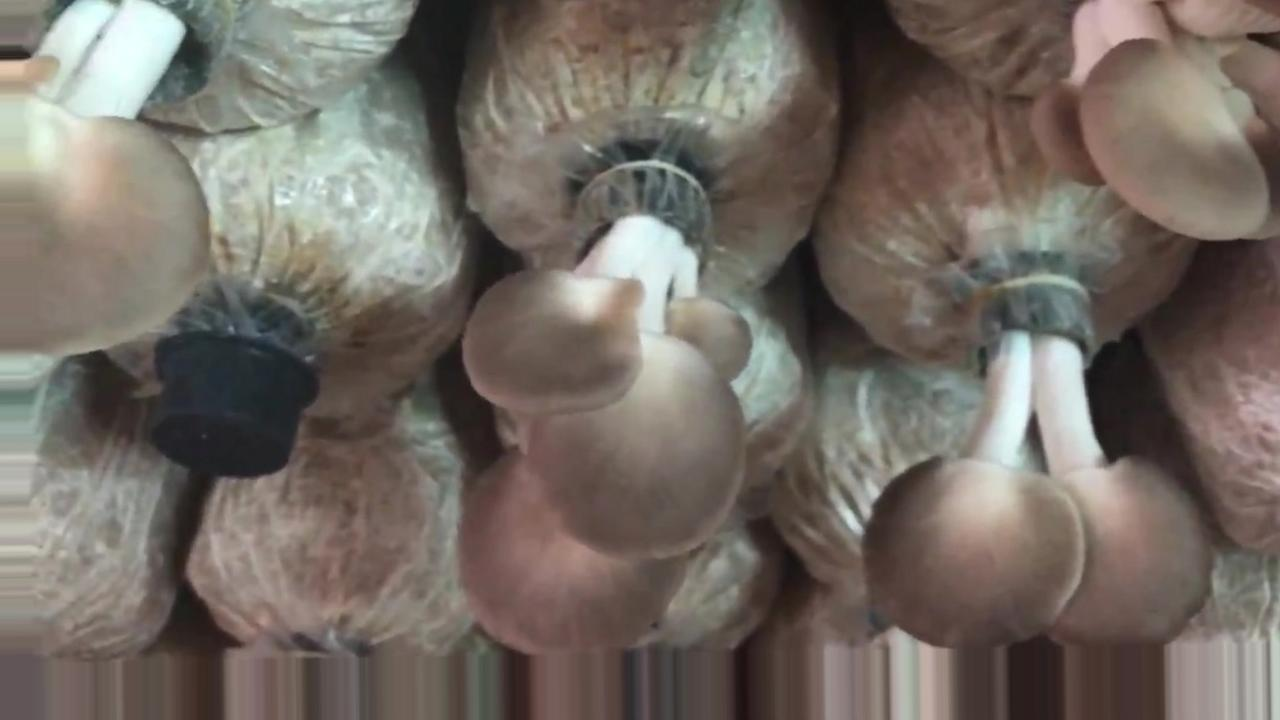nam: (457, 175, 752, 652), (865, 280, 1212, 655), (1, 1, 236, 354), (1036, 1, 1277, 242)
